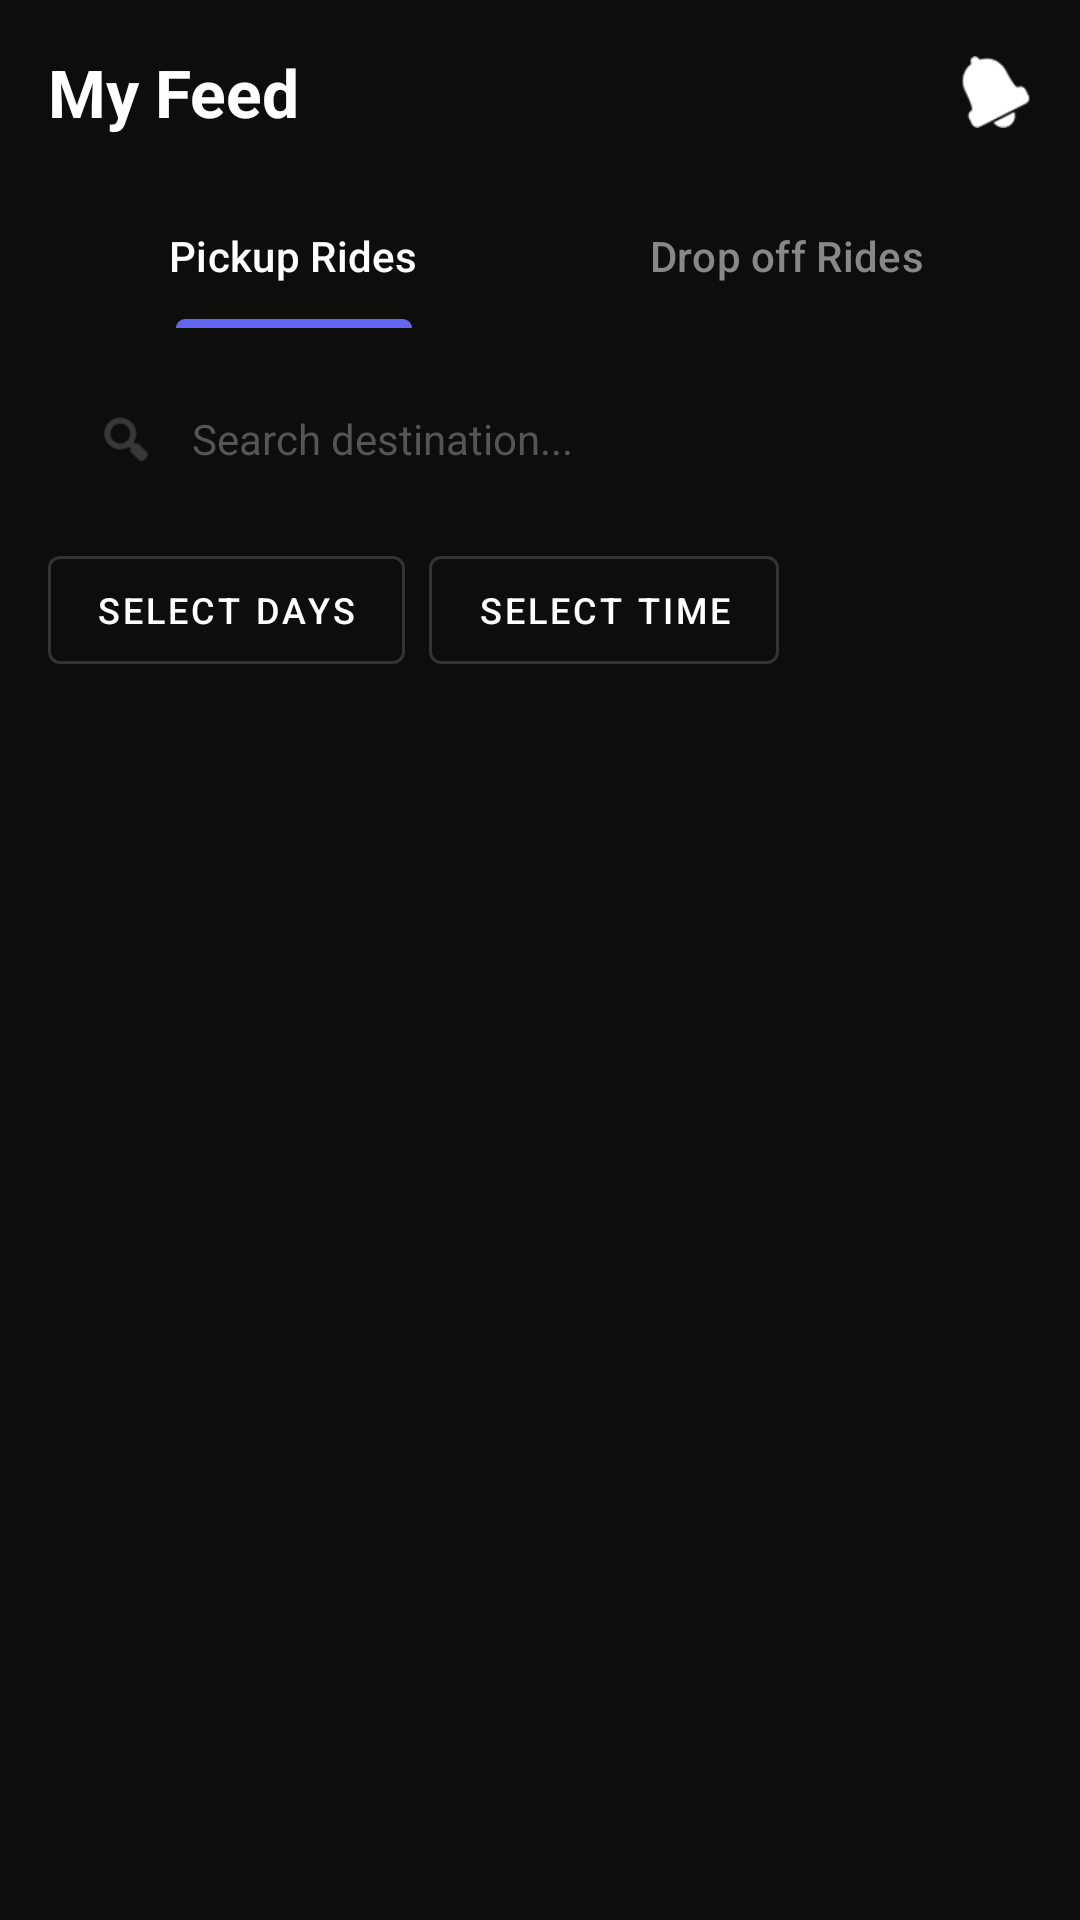

Icons on this 1080 × 1920 Android screen, each with the point to tap as point (x, y):
popup reminder: point (996, 92)
